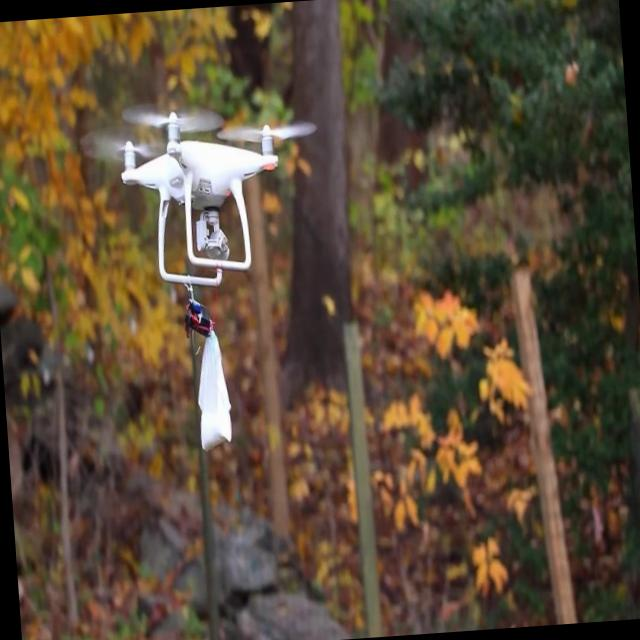drone: (114, 100, 297, 290)
